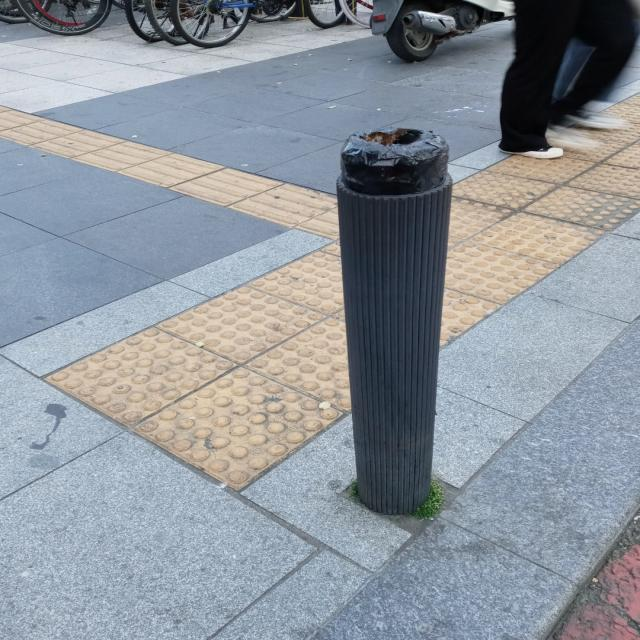pole: (338, 126, 449, 529)
